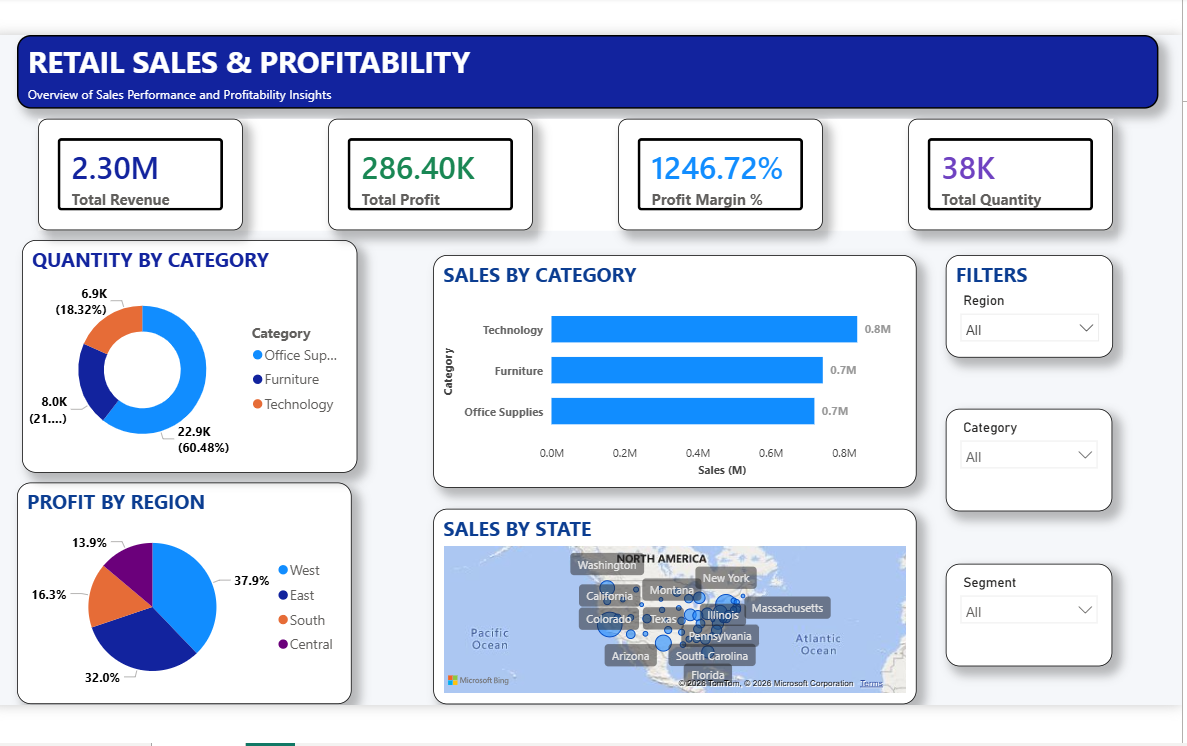

This screenshot's page, from the dashboard's own definition file:
{"tool":"powerbi","page":{"name":"Page 1","canvas":[1280,720],"ordinal":0},"visuals":[{"type":"cardVisual","fields":{"Data":["sales_cleaned.Total Revenue"]},"box":[49.8,90.1,220,120],"z":0,"group":"g1"},{"type":"clusteredBarChart","title":"SALES BY CATEGORY","fields":{"Category":["sales_cleaned.Category"],"Y":["Sum(sales_cleaned.Sales)"]},"box":[474.8,236,520,250],"z":0},{"type":"cardVisual","fields":{"Data":["sales_cleaned.Total Profit"]},"box":[361.9,90.1,220,120],"z":1000,"group":"g1"},{"type":"pieChart","title":"PROFIT BY REGION","fields":{"Category":["sales_cleaned.Region"],"Y":["Sum(sales_cleaned.Profit)"]},"box":[32.9,481.6,360,239],"z":1000},{"type":"cardVisual","fields":{"Data":["sales_cleaned.Total Quantity"]},"box":[986,90.1,220,120],"z":2000,"group":"g1"},{"type":"donutChart","title":"QUANTITY BY CATEGORY","fields":{"Category":["sales_cleaned.Category"],"Y":["Sum(sales_cleaned.Quantity)"]},"box":[32.3,220.6,360.4,250.1],"z":2000},{"type":"cardVisual","fields":{"Data":["sales_cleaned.Profit Margin %"]},"box":[673.9,90.1,220,120],"z":3000,"group":"g1"},{"type":"map","title":"SALES BY STATE","fields":{"Category":["sales_cleaned.State"],"Size":["Sum(sales_cleaned.Sales)"]},"box":[472,509.7,520,211],"z":3000},{"type":"slicer","title":"FILTERS","fields":{"Values":["sales_cleaned.Region"]},"box":[1026.1,236.7,180.2,110],"z":4000},{"type":"slicer","title":"FILTERS","fields":{"Values":["sales_cleaned.Category"]},"box":[1026.1,402.6,178.9,110.3],"z":5000},{"type":"slicer","title":"FILTERS","fields":{"Values":["sales_cleaned.Segment"]},"box":[1026.1,568.9,178.9,110.3],"z":6000},{"type":"textbox","title":"RETAIL SALES & PROBABILITY","box":[26.9,0,1227.8,79.3],"z":7000},{"type":"group","id":"g1","title":"Group 1","box":[49.8,90.1,1156.5,119.7],"z":8000}]}

Visuals, with their boxes in screenshot pixels (x1, y1, x2, y2):
cardVisual - sales_cleaned.Total Revenue: (left=29, top=116, right=237, bottom=230)
"SALES BY CATEGORY" clusteredBarChart: (left=432, top=255, right=925, bottom=492)
cardVisual - sales_cleaned.Total Profit: (left=325, top=116, right=533, bottom=230)
"PROFIT BY REGION" pieChart: (left=13, top=488, right=354, bottom=714)
cardVisual - sales_cleaned.Total Quantity: (left=916, top=116, right=1125, bottom=230)
"QUANTITY BY CATEGORY" donutChart: (left=12, top=240, right=354, bottom=477)
cardVisual - sales_cleaned.Profit Margin %: (left=620, top=116, right=829, bottom=230)
"SALES BY STATE" map: (left=429, top=514, right=922, bottom=714)
"FILTERS" slicer: (left=954, top=255, right=1125, bottom=360)
"FILTERS" slicer: (left=954, top=413, right=1124, bottom=517)
"FILTERS" slicer: (left=954, top=570, right=1124, bottom=675)
"RETAIL SALES & PROBABILITY" textbox: (left=7, top=31, right=1171, bottom=106)
"Group 1" group: (left=29, top=116, right=1125, bottom=230)
